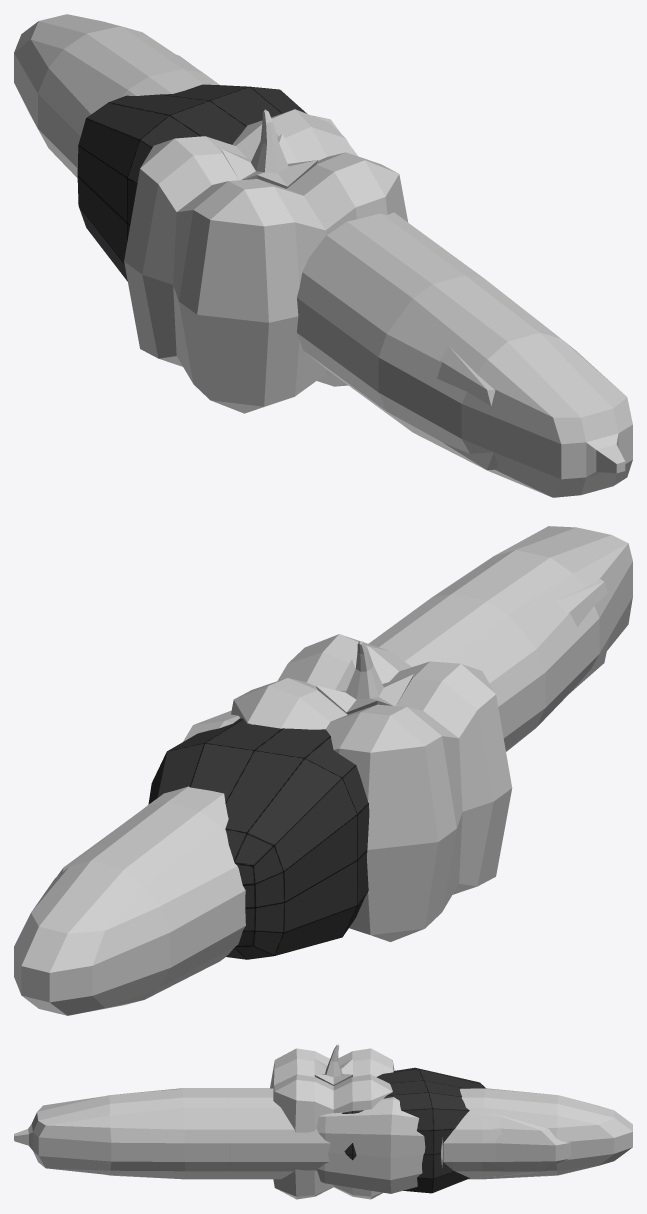
File: vegetables.fbx
3 renders of one model, top to bottom at view 1: azimuth 30°, elevation 25°; view 2: azimuth 150°, elevation 25°; view 3: azimuth 270°, elevation 25°, orthographic. The views are drawn at different scales.
Visible parts, largest first — view 1: Cucumber, bell pepper, Eggplant2, Cucumber.001; view 2: Cucumber, bell pepper, Eggplant2, Cucumber.001; view 3: Cucumber, Cucumber.001, bell pepper, Eggplant, Eggplant2.
Boxes of the visible parts, left/top/right/bottom form: Cucumber: left=14, top=14, right=632, bottom=497; bell pepper: left=124, top=109, right=408, bottom=413; Eggplant2: left=77, top=84, right=306, bottom=281; Cucumber.001: left=176, top=54, right=497, bottom=469; Cucumber: left=14, top=526, right=632, bottom=1015; bell pepper: left=231, top=634, right=512, bottom=941; Eggplant2: left=148, top=718, right=369, bottom=959; Cucumber.001: left=57, top=579, right=609, bottom=876; Cucumber: left=14, top=1088, right=632, bottom=1179; Cucumber.001: left=228, top=1093, right=571, bottom=1179; bell pepper: left=270, top=1044, right=394, bottom=1199; Eggplant: left=316, top=1097, right=442, bottom=1193; Eggplant2: left=342, top=1067, right=485, bottom=1193.
Bounding box in the file's own units: 328 × 344 × 1383.
